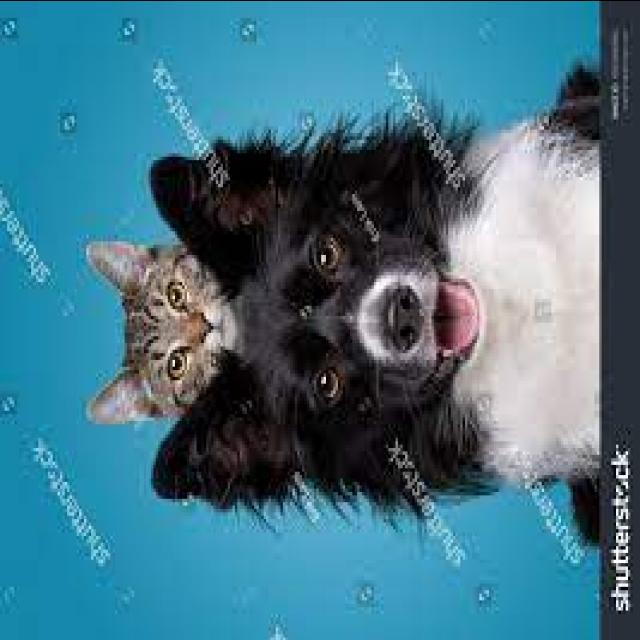cat: (80, 222, 238, 437)
dog: (152, 125, 608, 508)
